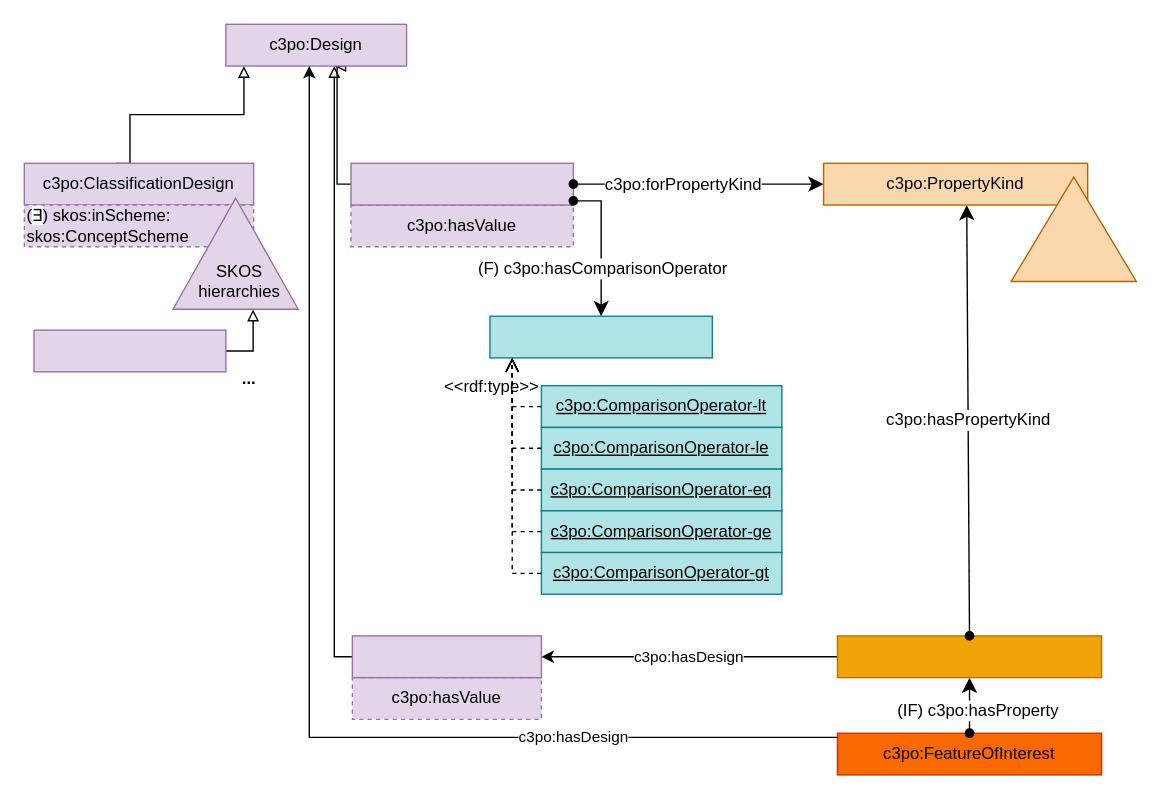
This 1161x799 diagram has some shape labels left out. The centre of each missing label's shape, as x and y in pixels:
"c3po:ComparisonOperator" goes at (x=600, y=336).
"c3po:IfcElementType" goes at (x=129, y=350).
"c3po:Property" goes at (x=969, y=656).
"c3po:PropertyDesign" goes at (x=446, y=656).
"c3po:PropertyKindDesign" goes at (x=461, y=183).
"SKOS hierarchy" goes at (x=1073, y=228).
